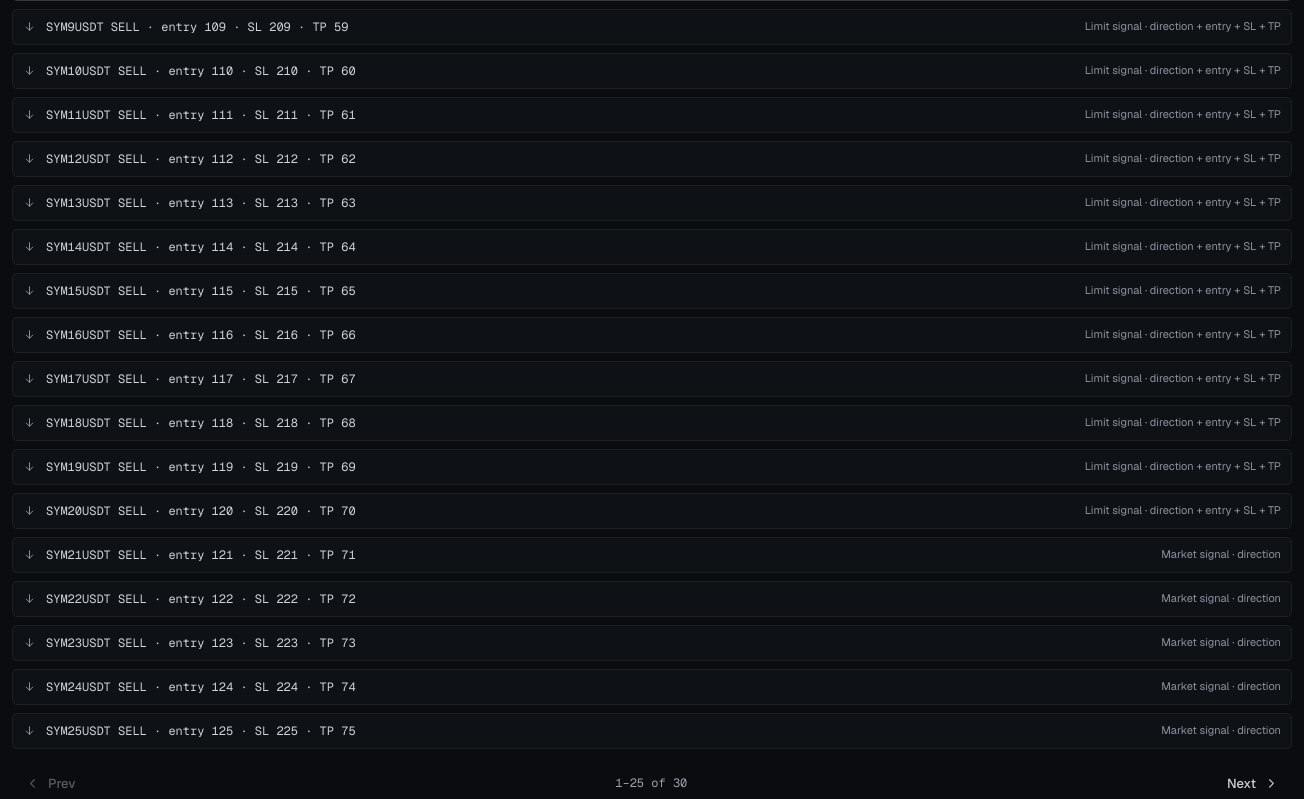
Test case: AuditReview › paginates the parsed list 25 per page
(page scrolled)
Expected: the text "1–25 of 30" is shown, [615,774,687,793]
Expected: the text "AAVEUSDT SELL" is not shown
Step 1. Click the button "Next" → (1253, 784), box [1214,769,1292,798]
(page scrolled)
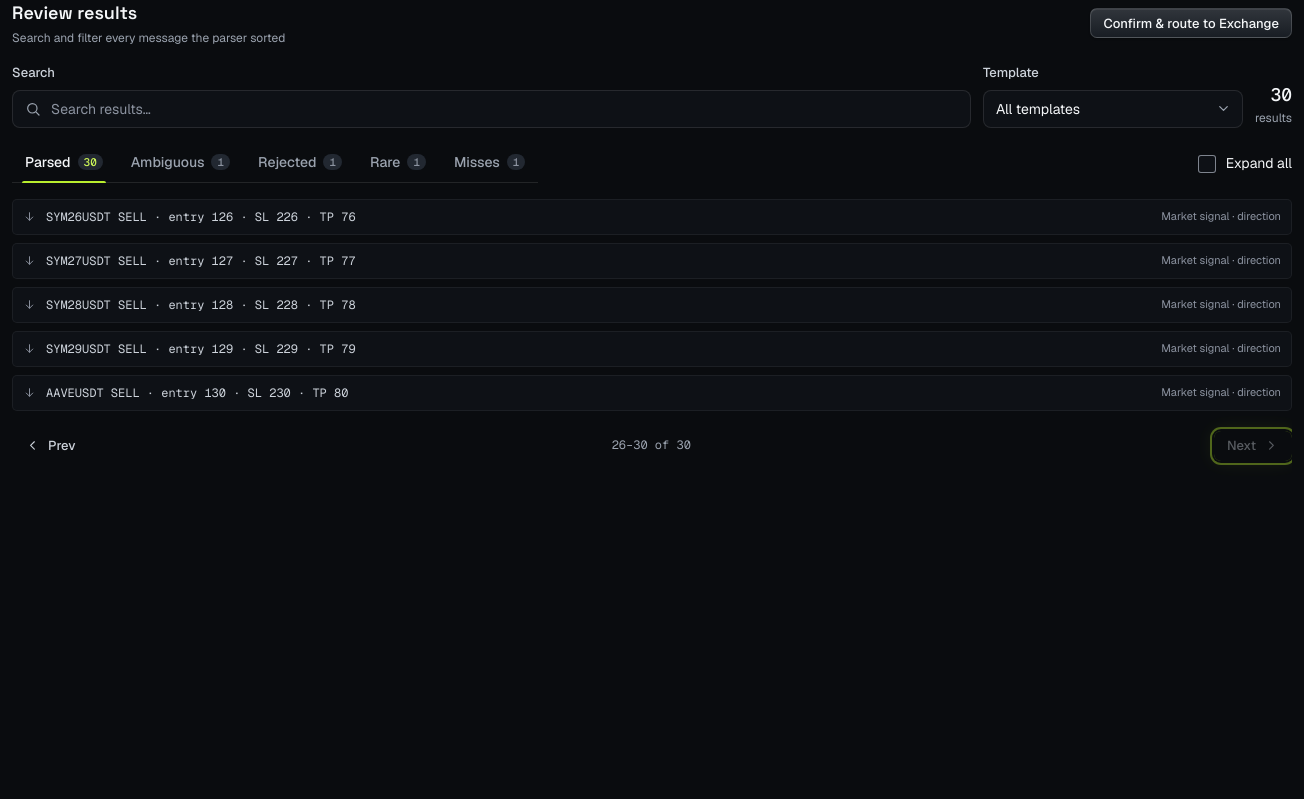
Expected: the text "26–30 of 30" is shown, [612,436,691,455]
Expected: the text "AAVEUSDT SELL · entry 130 · SL 230 · TP 80" is shown, [46,385,348,401]
